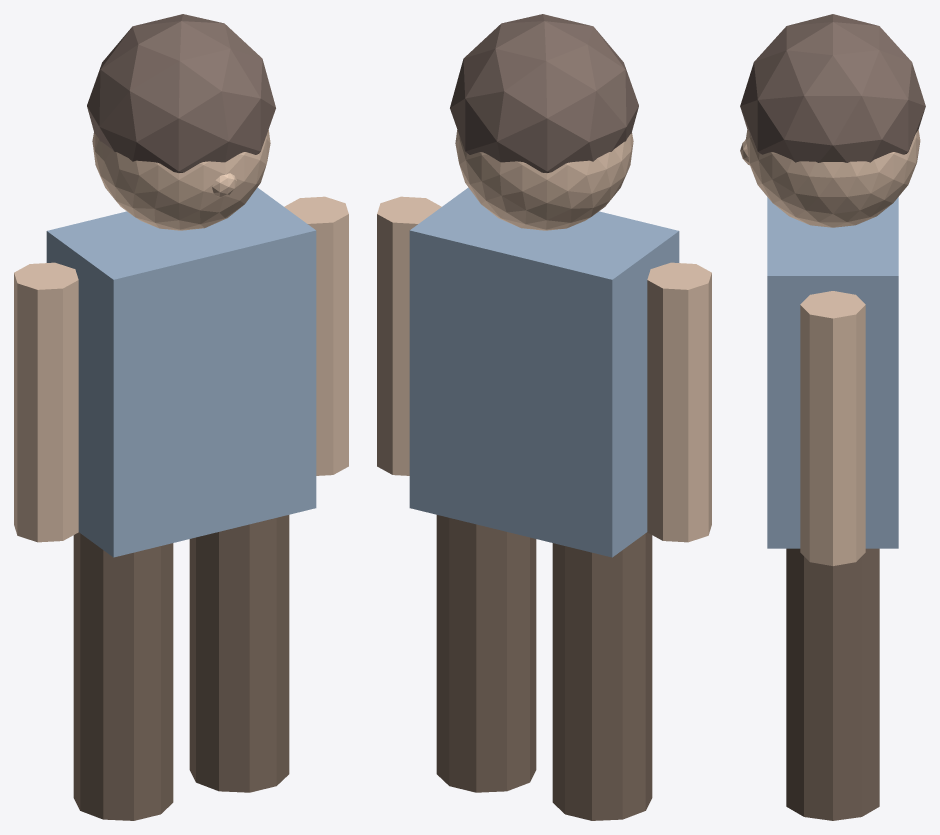
File: sim_adult_average.glb
3 views of the same model, side by side, from view 1: azimuth 30°, elevation 25°; view 2: azimuth 150°, elevation 25°; view 3: azimuth 270°, elevation 25° (orthographic).
Visible parts, largest first — view 1: p002, p000, p001, p006, p003, p004, p005; view 2: p002, p000, p001, p006, p003, p004, p005; view 3: p002, p001, p006, p004, p005.
Boxes of the visible parts, <box> form: p002: <box>46,187,316,557</box>; p000: <box>73,532,173,820</box>; p001: <box>189,515,289,792</box>; p006: <box>87,14,275,172</box>; p003: <box>14,262,78,542</box>; p004: <box>284,196,348,475</box>; p005: <box>92,130,270,230</box>; p002: <box>409,187,679,557</box>; p000: <box>552,532,652,820</box>; p001: <box>436,515,536,792</box>; p006: <box>450,14,638,172</box>; p003: <box>647,262,711,542</box>; p004: <box>377,196,441,475</box>; p005: <box>455,130,633,230</box>; p002: <box>767,197,898,548</box>; p001: <box>786,548,879,820</box>; p006: <box>740,14,925,162</box>; p004: <box>800,291,865,565</box>; p005: <box>745,130,920,227</box>.
Bounding box in the file's own units: 0.68 × 1.52 × 0.34.
